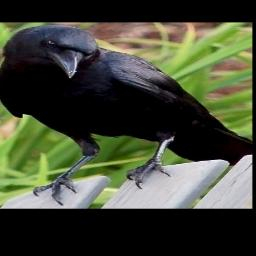Crow: (0, 26, 251, 206)
